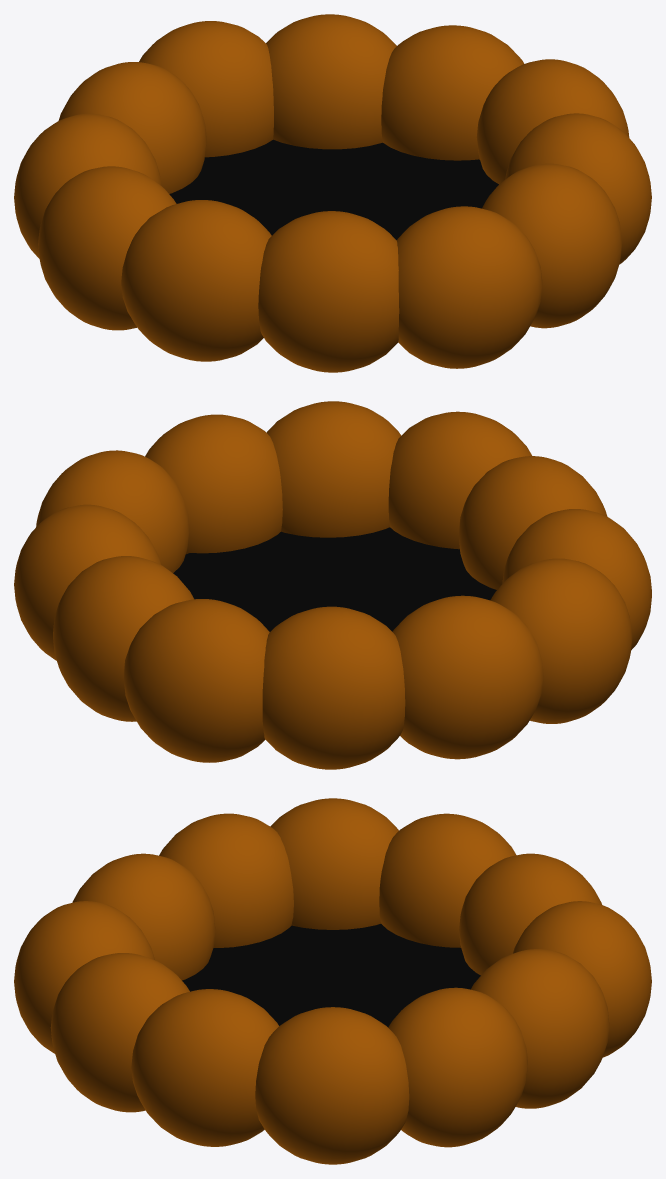
File: Hole.fbx
3 views of the same model, one above another, from view 1: azimuth 30°, elevation 25°; view 2: azimuth 150°, elevation 25°; view 3: azimuth 270°, elevation 25° (orthographic). The views are drawn at different scales.
Parts seen in each view (by area): view 1: 球.002, 平面; view 2: 球.002, 平面; view 3: 球.002, 平面.
Part boxes in pixels (bbox=[...]): 球.002: bbox=[14, 14, 651, 372]; 平面: bbox=[169, 139, 498, 239]; 球.002: bbox=[14, 401, 651, 769]; 平面: bbox=[173, 527, 496, 631]; 球.002: bbox=[14, 798, 651, 1164]; 平面: bbox=[182, 924, 480, 1027].
Bounding box in the file's own units: 775 × 195 × 775.
2 materials, 2 textured.
